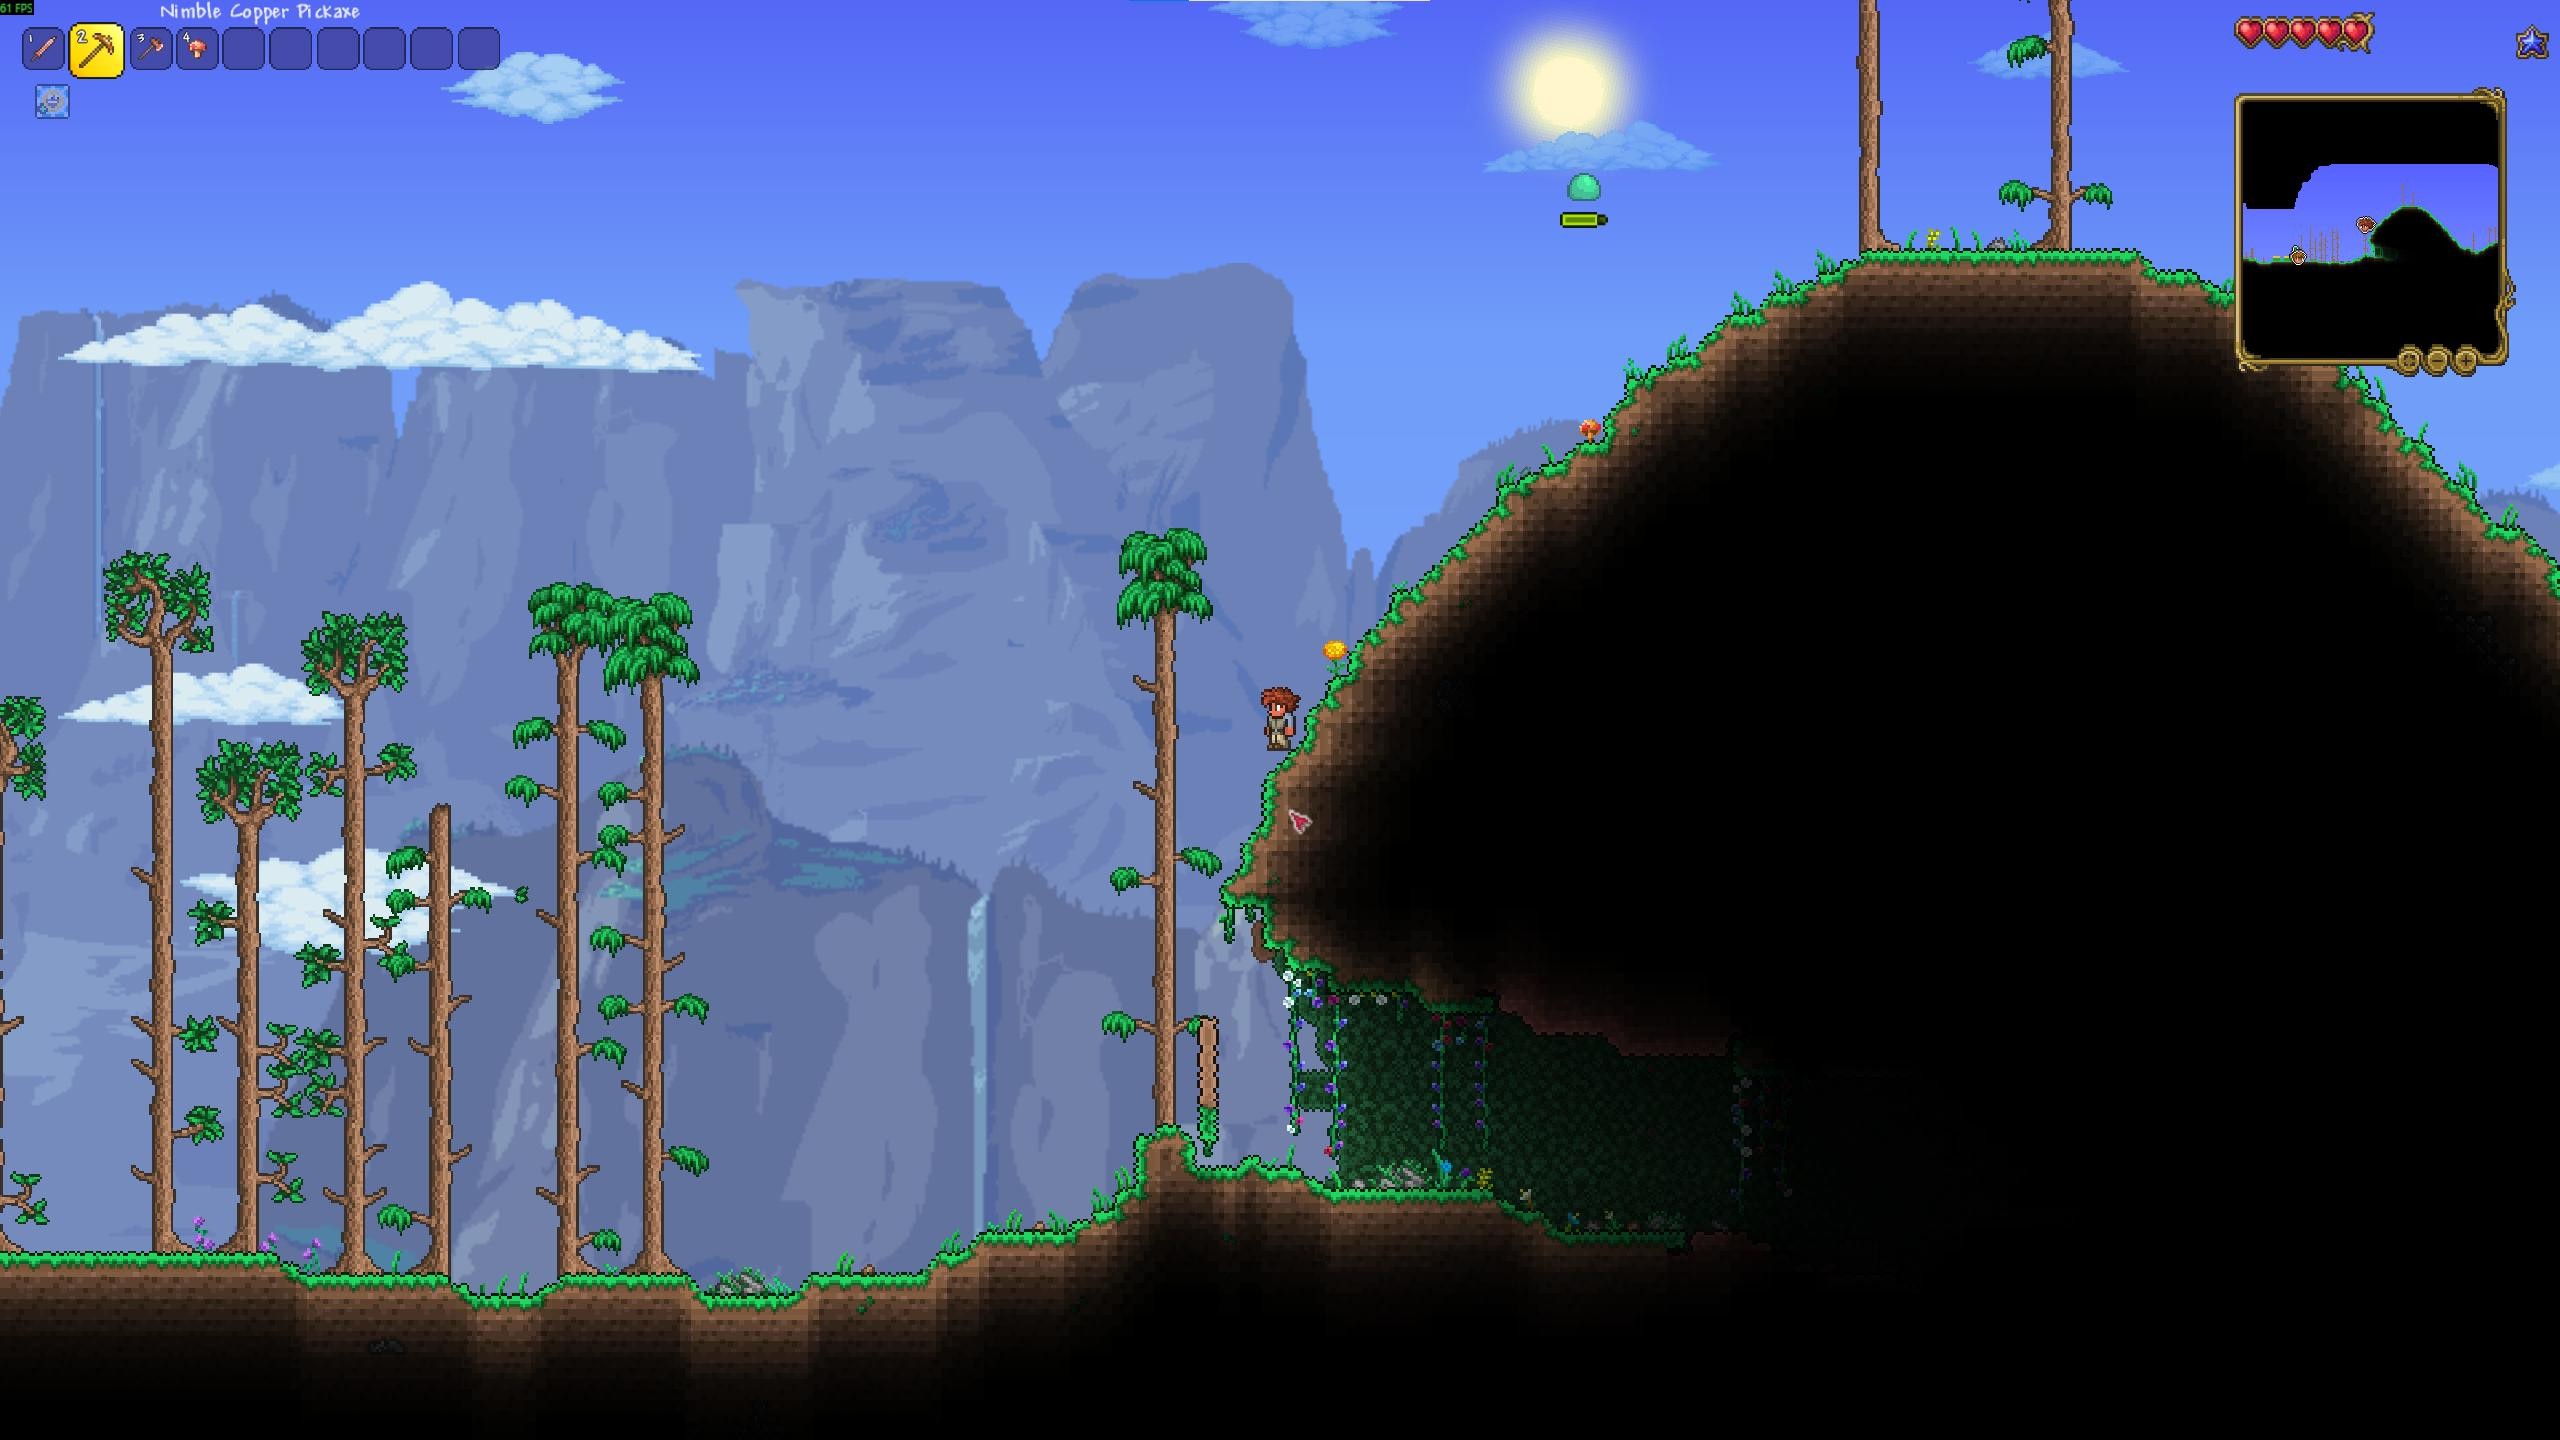Green Slime: (1560, 165, 1609, 206)
